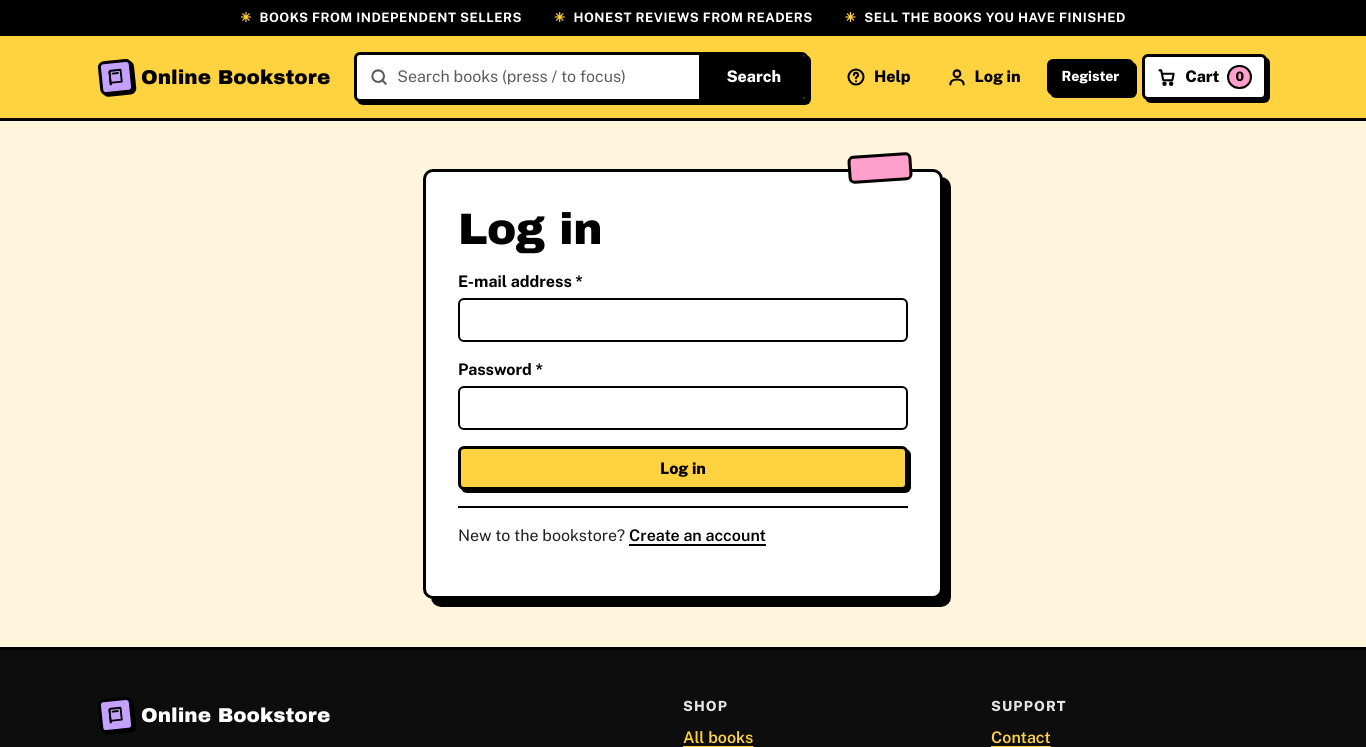
Test case: Login page › TC-ST02-01: valid credentials store the token and show the account menu
Step 1. Type "anita.rao@testmail.example" into the field labelled "E-mail address *" → {"x": 683, "y": 320}, box [458, 298, 908, 342]
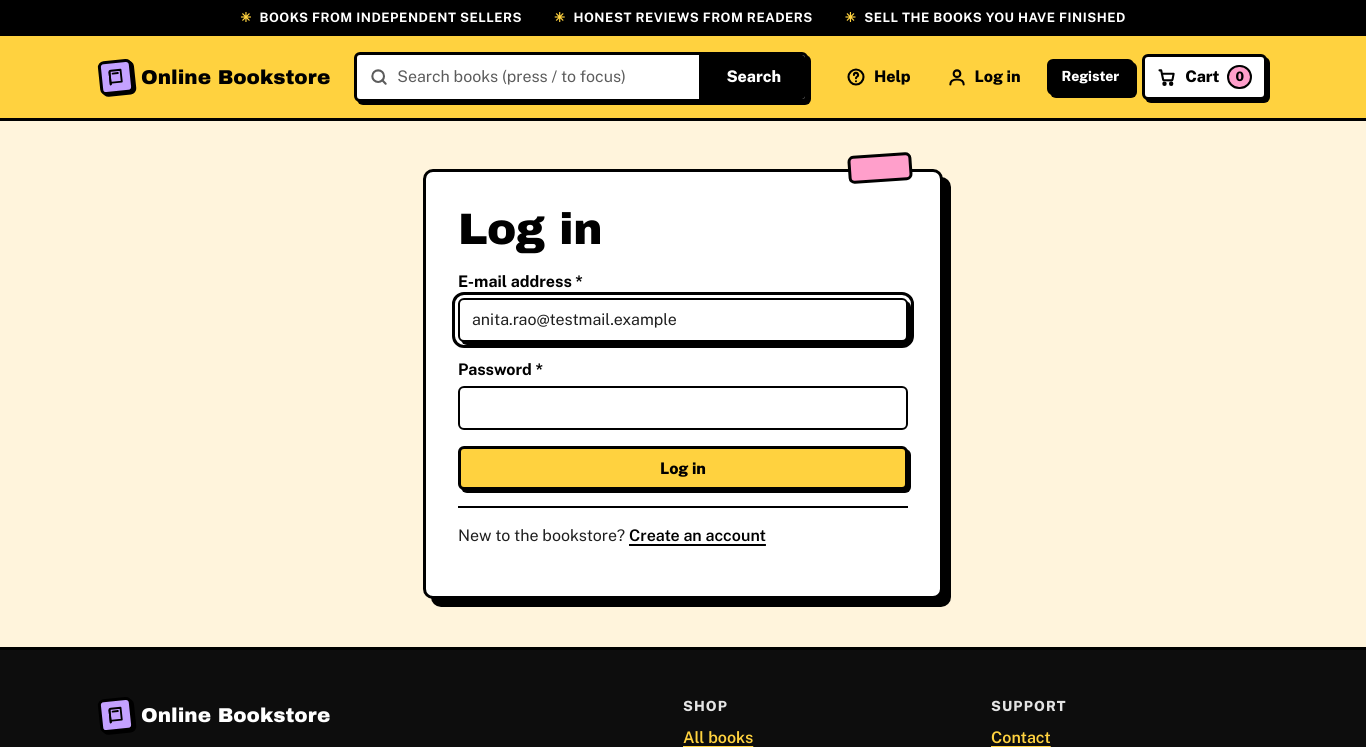
Step 2. Type "BookTest#2026" into the password field labelled "Password *" → {"x": 683, "y": 408}, box [458, 386, 908, 430]
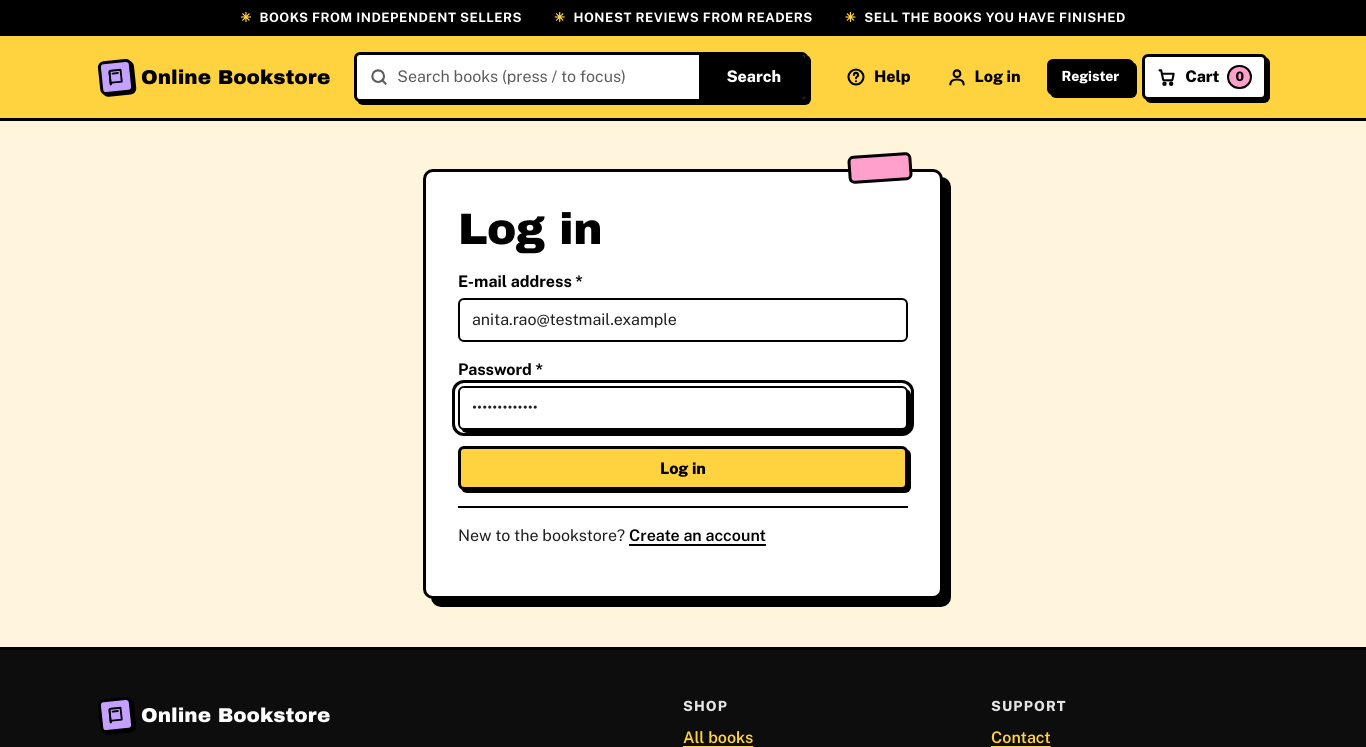
Step 3. Click the button "Log in" → {"x": 683, "y": 468}, box [458, 446, 908, 490]
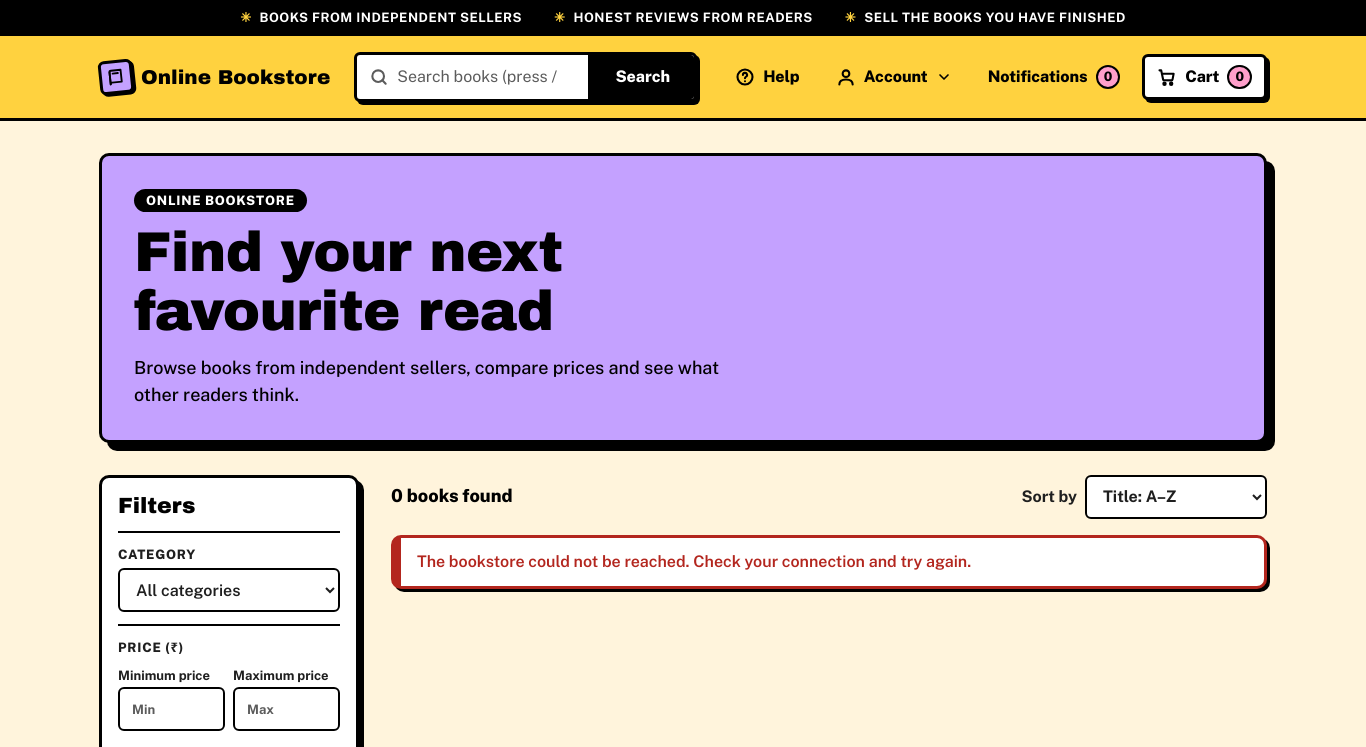
Check: the button with aria-label "Account menu for Anita Rao" is shown, box [822, 54, 966, 98]
Check: the link "Log in" is gone
